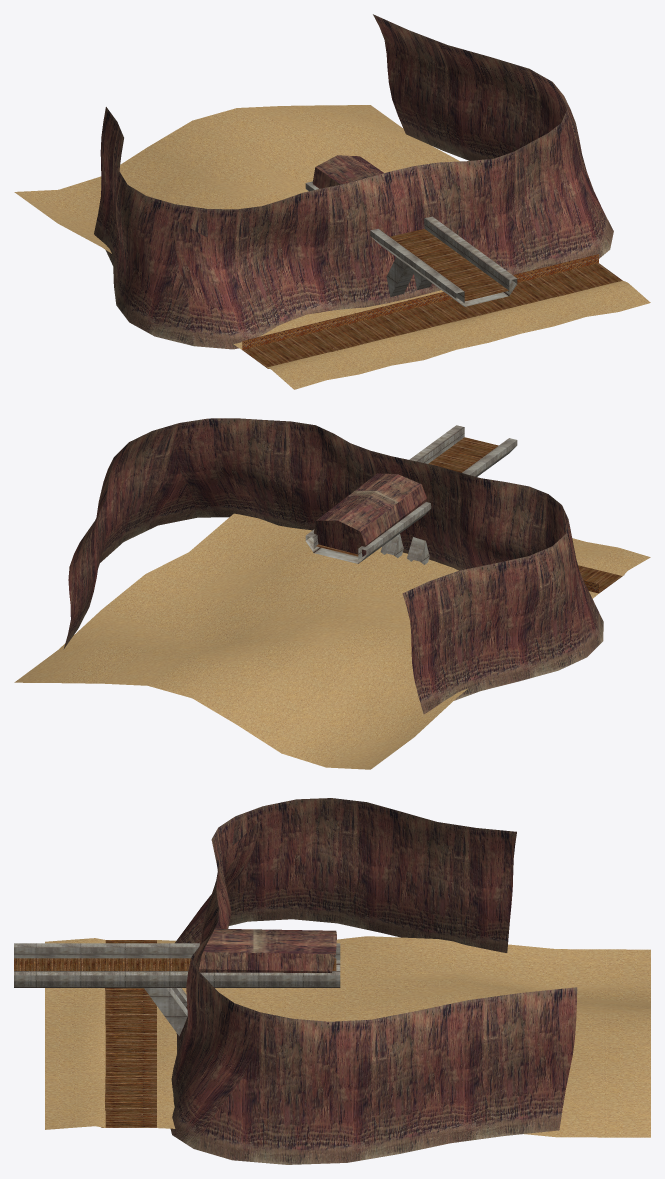
The model's file is terr_canyon.FBX.
3 renders of one model, top to bottom at view 1: azimuth 30°, elevation 25°; view 2: azimuth 150°, elevation 25°; view 3: azimuth 270°, elevation 25°, orthographic. The views are drawn at different scales.
Parts seen in each view (by area): view 1: Rock1, sand1, Rock2, sand2, road, bridge, roadUp, fence; view 2: sand1, Rock1, Rock2, bridge, sand2, roadUp, road; view 3: Rock1, sand1, Rock2, bridge, sand2, road, roadUp.
Boxes of the visible parts, x1,y1,x2,y2 form: Rock1: [94, 14, 613, 349]; sand1: [14, 105, 459, 349]; Rock2: [94, 14, 612, 348]; sand2: [267, 280, 650, 389]; road: [242, 263, 622, 368]; bridge: [305, 181, 517, 306]; roadUp: [390, 229, 508, 301]; fence: [242, 254, 598, 349]; sand1: [14, 513, 598, 769]; Rock1: [63, 418, 603, 713]; Rock2: [64, 419, 603, 690]; bridge: [305, 425, 517, 564]; sand2: [572, 538, 650, 575]; roadUp: [316, 437, 498, 556]; road: [578, 565, 624, 593]; Rock1: [170, 798, 577, 1164]; sand1: [157, 936, 650, 1137]; Rock2: [175, 798, 513, 1142]; bridge: [14, 943, 340, 1036]; sand2: [45, 938, 105, 1129]; road: [101, 940, 156, 1127]; roadUp: [14, 958, 336, 970].
Size of the model in its own units: 261 by 73.03 by 286.
5 materials, 5 textured.
